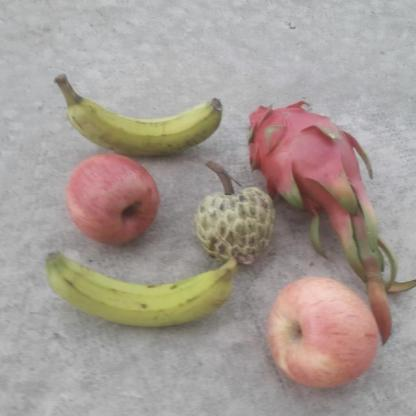annona: (189, 178, 278, 274)
apple: (264, 276, 381, 396), (62, 153, 160, 251)
banana: (34, 252, 257, 328), (52, 71, 233, 161)
pitaya: (245, 95, 368, 218)
